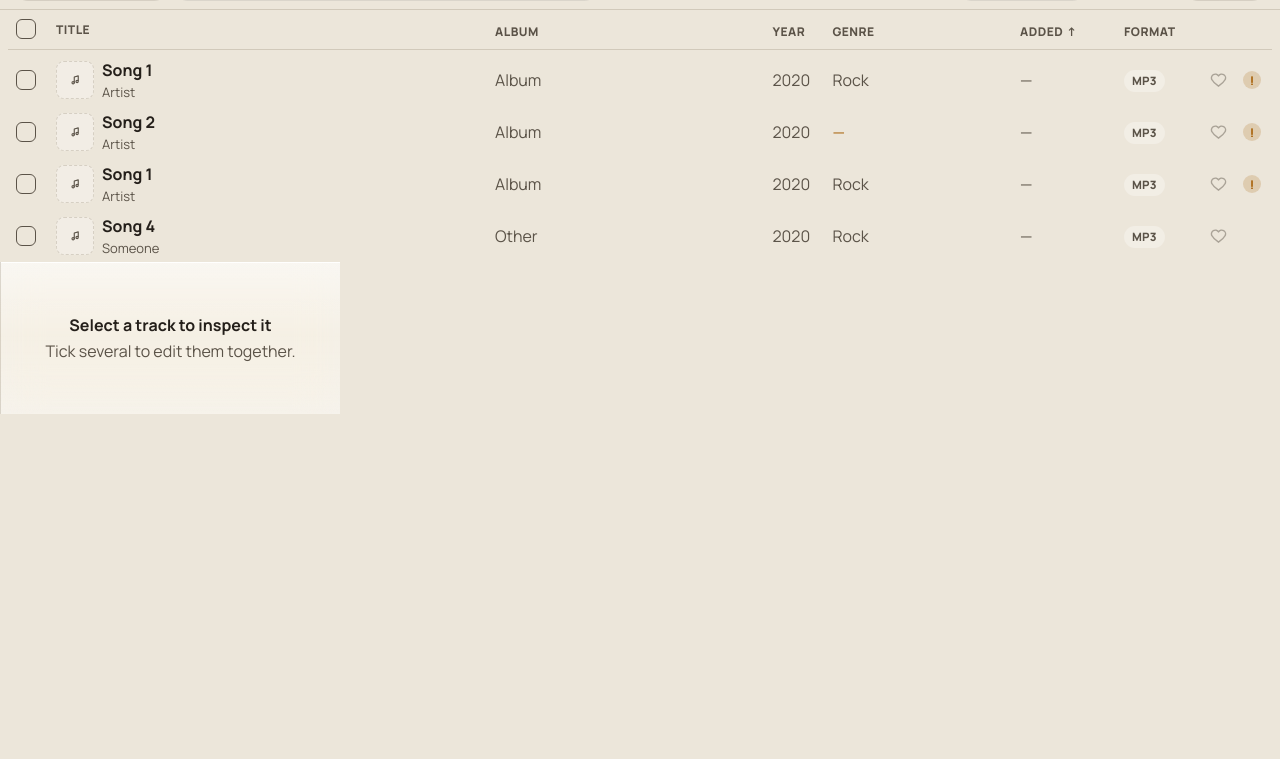
Test: LibraryInspector › shows an empty hint, then the selected track with its issues
The width and height of the screenshot is (1280, 759).
Expected: the text "Select a track to inspect it" is shown, x1=69 y1=314 x2=272 y2=336
What coordinates should you click on to do the following:
click the row "Song 2 Artist Album 2020 — — MP3 !"
I would click on:
 (128, 122)
Its box is x1=8 y1=106 x2=1272 y2=158.
(page scrolled)
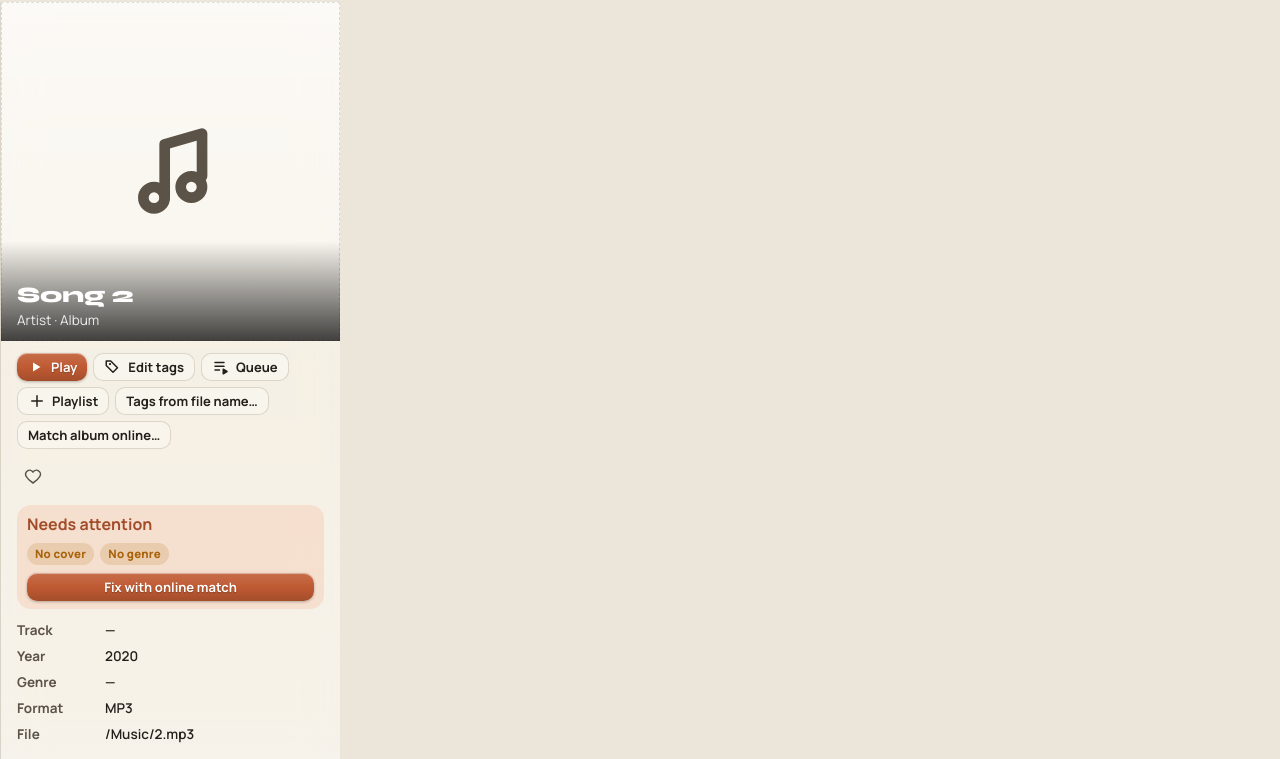
Expected: the heading "Song 2" is shown, x1=17 y1=282 x2=133 y2=308
Expected: the text "No cover" is shown, x1=27 y1=543 x2=94 y2=565
Expected: the text "No genre" is shown, x1=100 y1=543 x2=169 y2=565
